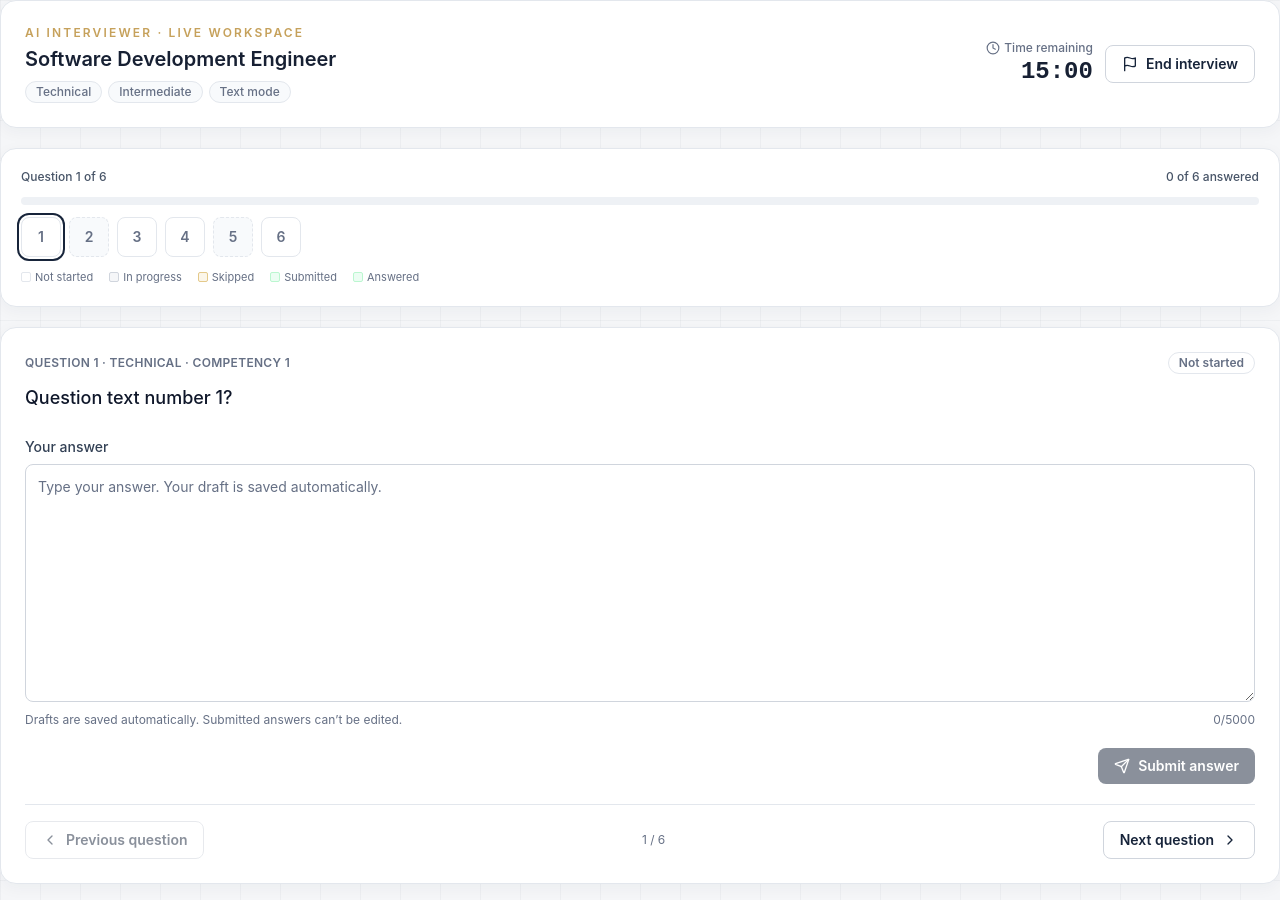
Test: next and previous only navigate: nothing is submitted, evaluated or generated
Expected: the text "Question text number 1?" is shown, x1=25 y1=386 x2=233 y2=408
Click the button "Next question": (1179, 840) x1=1103 y1=820 x2=1255 y2=858
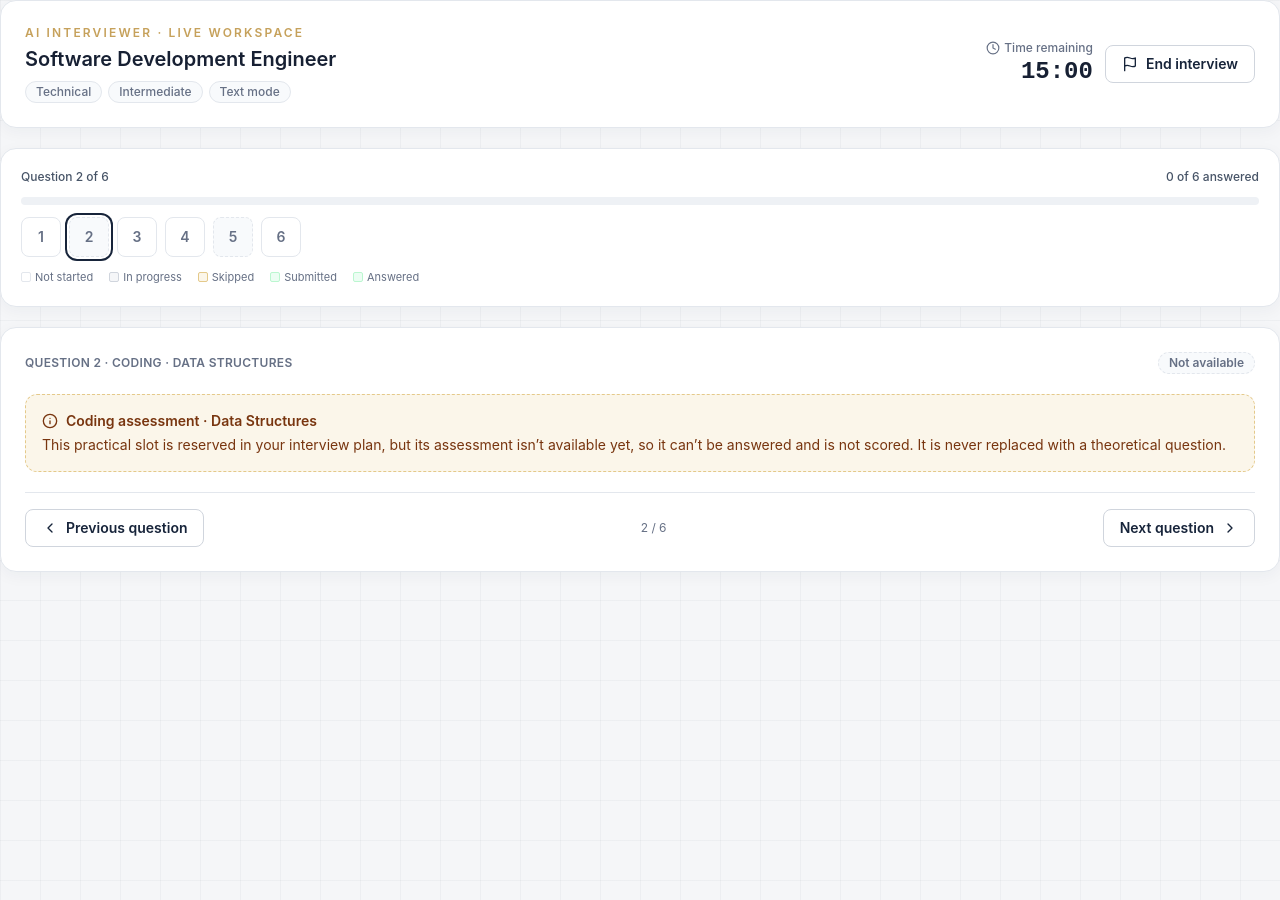
Expected: the text "Coding assessment · Data Structures" is shown, x1=42 y1=412 x2=317 y2=428
Expected: the label labelled "Your answer" is gone
Click the button "Next question": (1179, 528) x1=1103 y1=508 x2=1255 y2=546
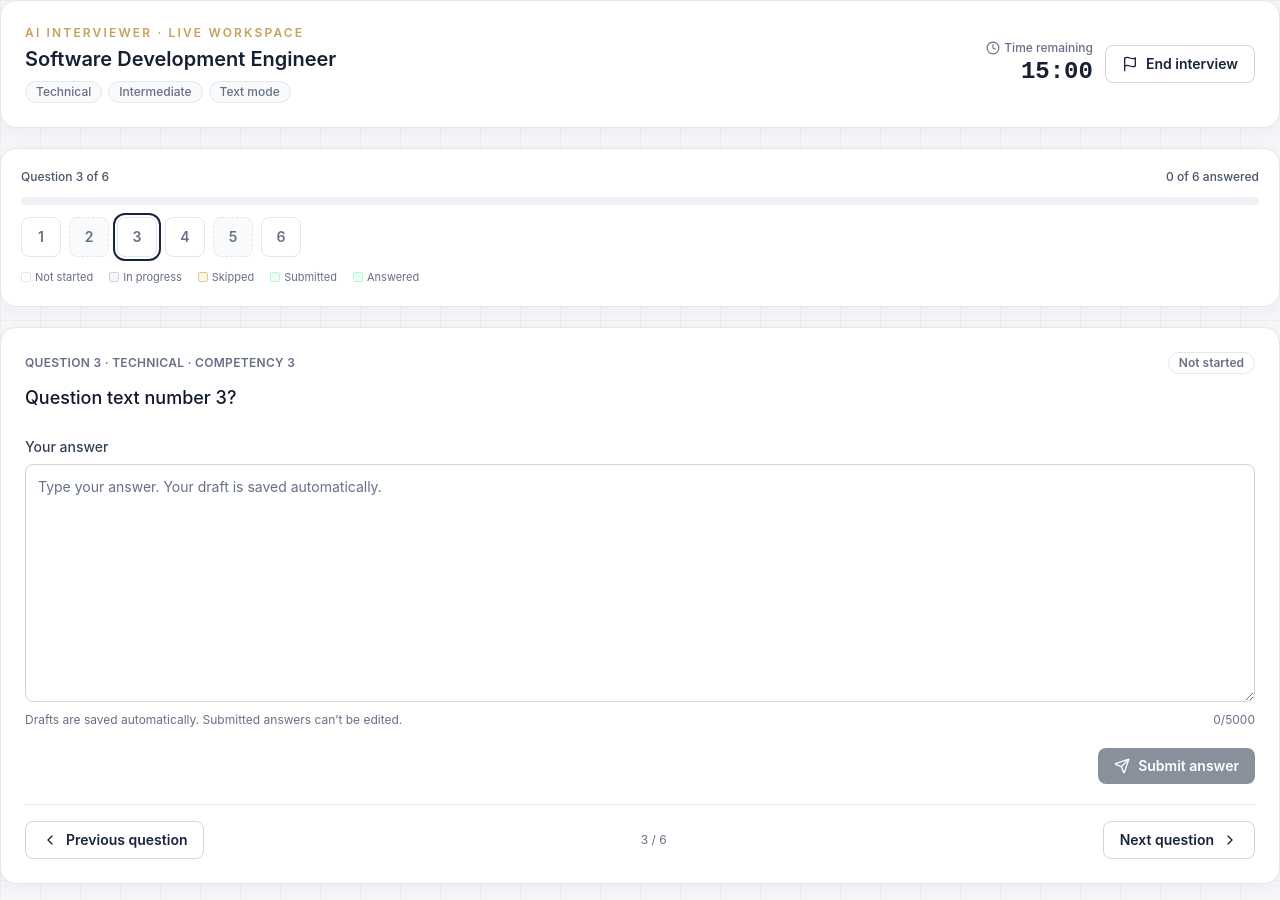
Expected: the text "Question text number 3?" is shown, x1=25 y1=386 x2=236 y2=408
Click the button "Previous question": (115, 840) x1=25 y1=820 x2=204 y2=858
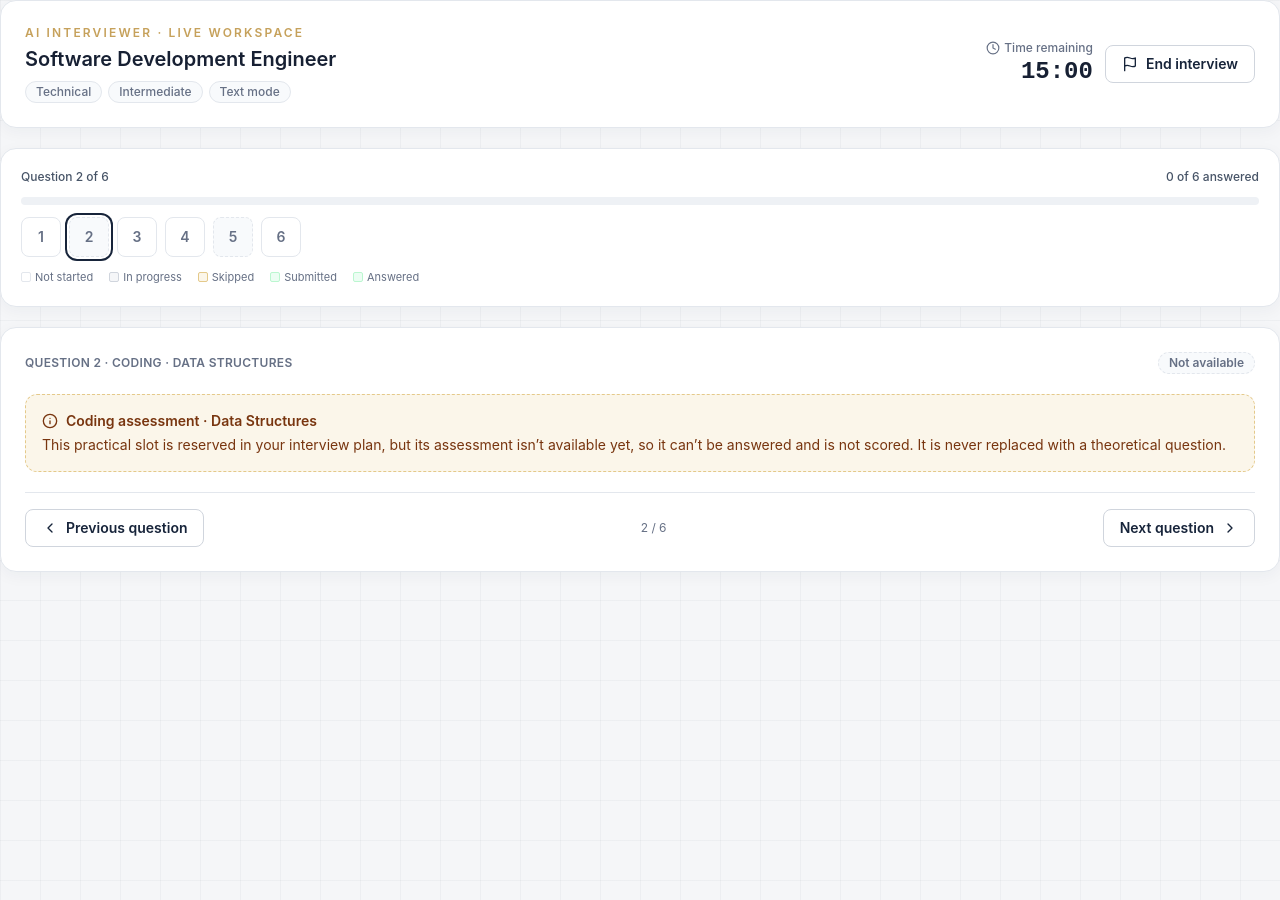
Click the button "Previous question": (115, 528) x1=25 y1=508 x2=204 y2=546
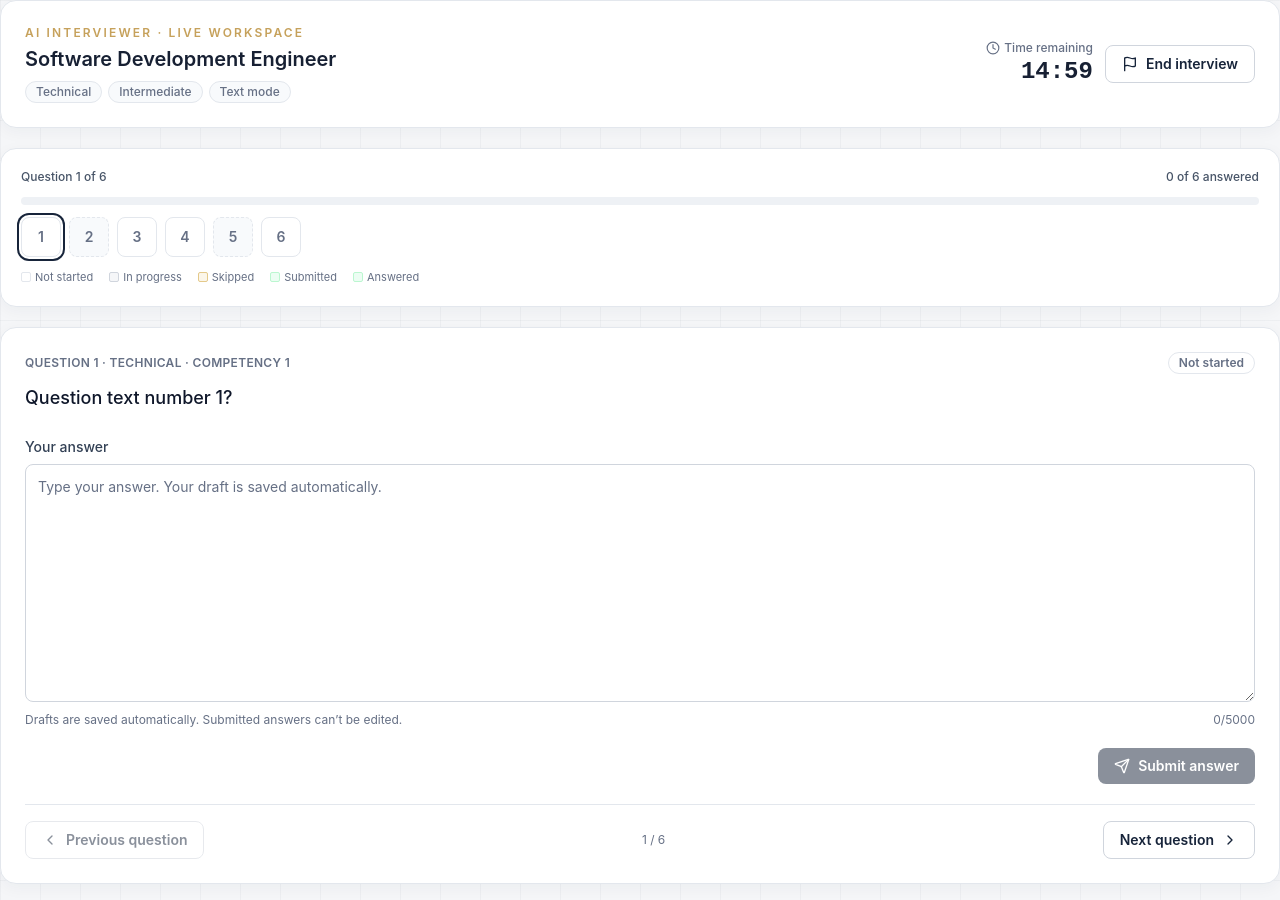
Expected: the text "Question text number 1?" is shown, x1=25 y1=386 x2=233 y2=408
